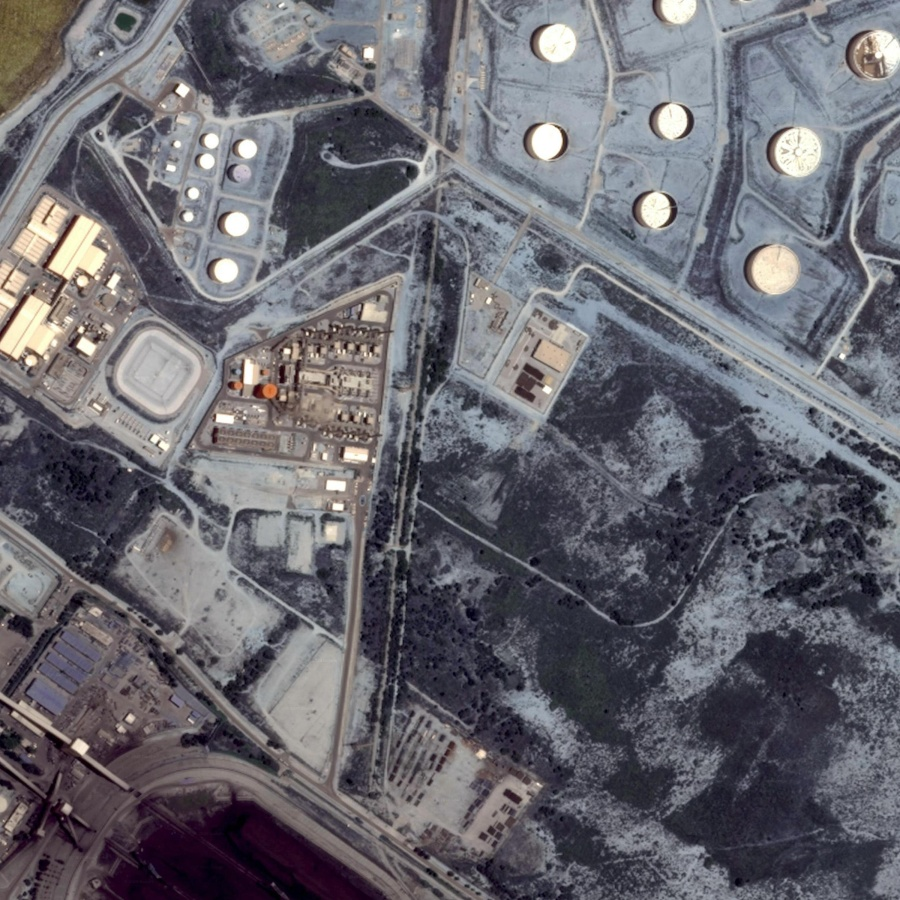PowerPlant: (98, 82, 330, 296)
